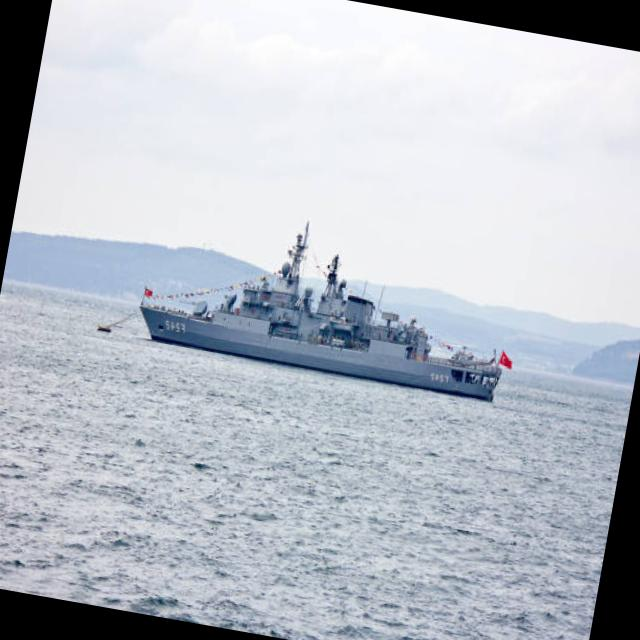Military: (139, 234, 511, 403)
